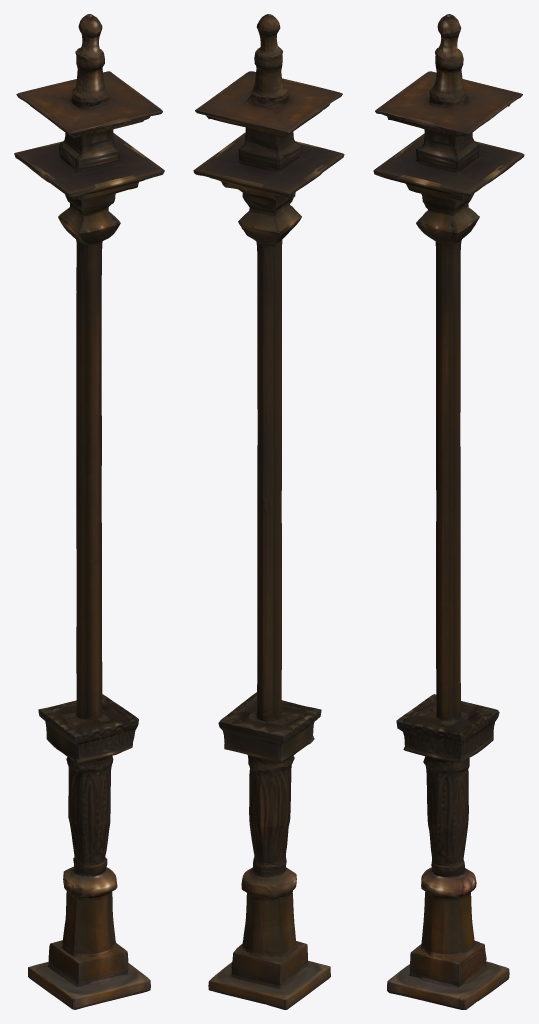
File: Torch2.fbx
The picture shows the model from 3 angles, left to right: view 1: azimuth 30°, elevation 25°; view 2: azimuth 150°, elevation 25°; view 3: azimuth 330°, elevation 25°; orthographic projection.
Visible parts, largest first — view 1: temp; view 2: temp; view 3: temp.
Part boxes in pixels (<box>): temp: <box>14,14,164,1009</box>; temp: <box>193,14,344,1009</box>; temp: <box>373,14,524,1009</box>.
Bounding box in the file's own units: 20.55 × 196 × 20.39.
1 material, 1 textured.
